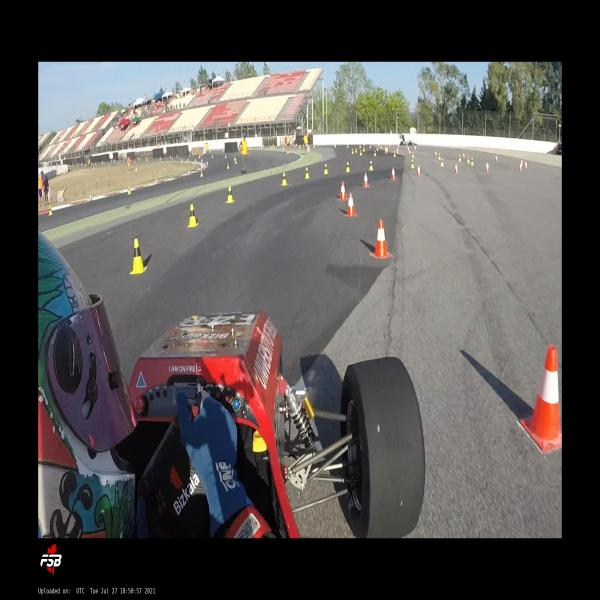orange_cone: (520, 345, 562, 451), (370, 219, 392, 258), (345, 192, 357, 217), (339, 182, 347, 200), (362, 171, 370, 188), (389, 167, 396, 180), (416, 164, 420, 176), (454, 164, 459, 173), (486, 162, 490, 171), (89, 194, 93, 202), (524, 161, 528, 169), (519, 163, 522, 171), (462, 152, 465, 159), (409, 149, 412, 155), (396, 148, 399, 154), (495, 156, 498, 161)
yellow_cone: (129, 238, 148, 275), (187, 203, 199, 228), (226, 185, 235, 203), (362, 171, 370, 188), (281, 172, 288, 186), (304, 166, 310, 179), (48, 205, 54, 216), (368, 160, 374, 170), (345, 162, 350, 172), (410, 158, 415, 168), (324, 164, 329, 174), (127, 186, 132, 195), (457, 154, 462, 162), (440, 157, 444, 167), (359, 149, 363, 156), (373, 150, 377, 157), (200, 170, 204, 177), (438, 152, 441, 160), (354, 148, 358, 154), (411, 151, 415, 157), (467, 156, 470, 164), (227, 162, 230, 170), (471, 157, 474, 165), (435, 151, 438, 157), (351, 148, 354, 154), (393, 151, 396, 157), (369, 144, 371, 150), (363, 146, 365, 152), (235, 159, 237, 164)
